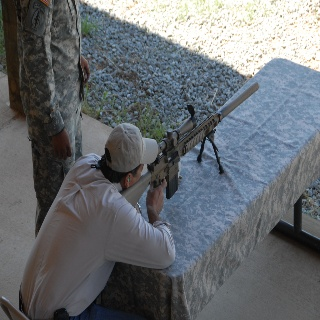rifle: (113, 81, 261, 210)
